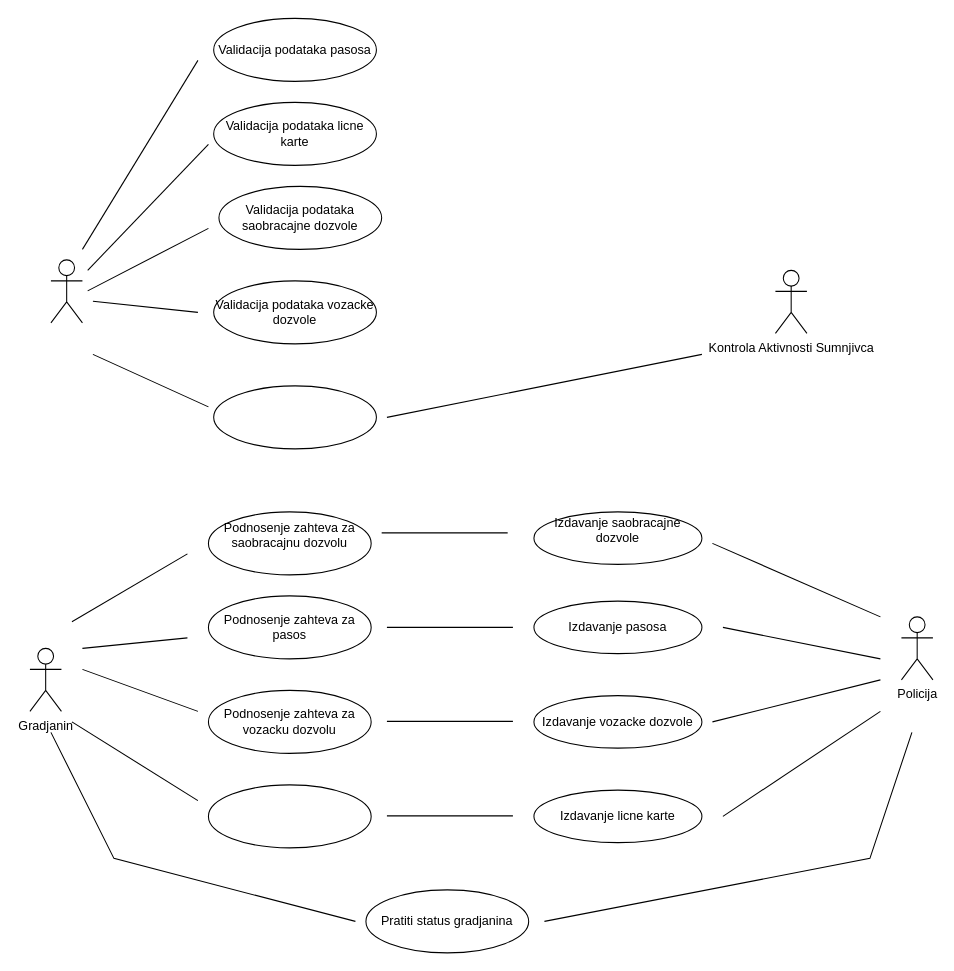
This 954x971 diagram has some shape labels left out. Here are the shapes that lost their labels. From the top down, the box of each, then its label:
(50, 259, 82, 323): Granicna policija
(213, 385, 376, 449): Pratiti aktivnost sumnjivog lica
(207, 784, 371, 848): Podnosenje zahteva za licnu kartu
